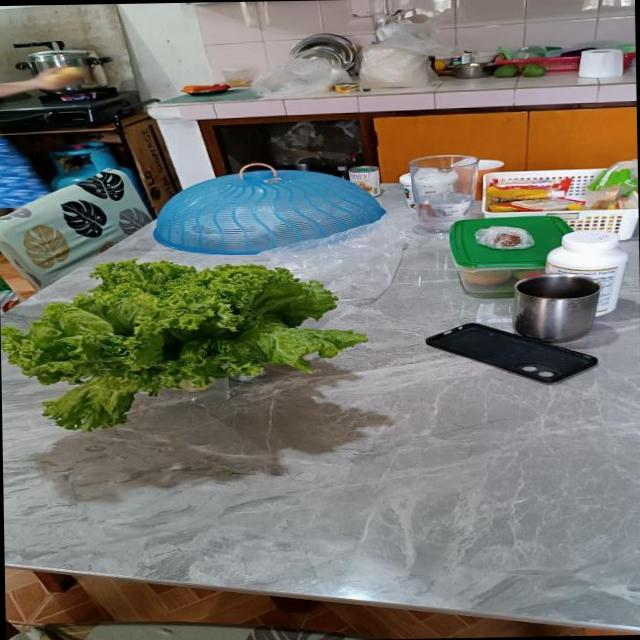Lettuce-Ready-to-Harvest: (0, 259, 365, 430)
